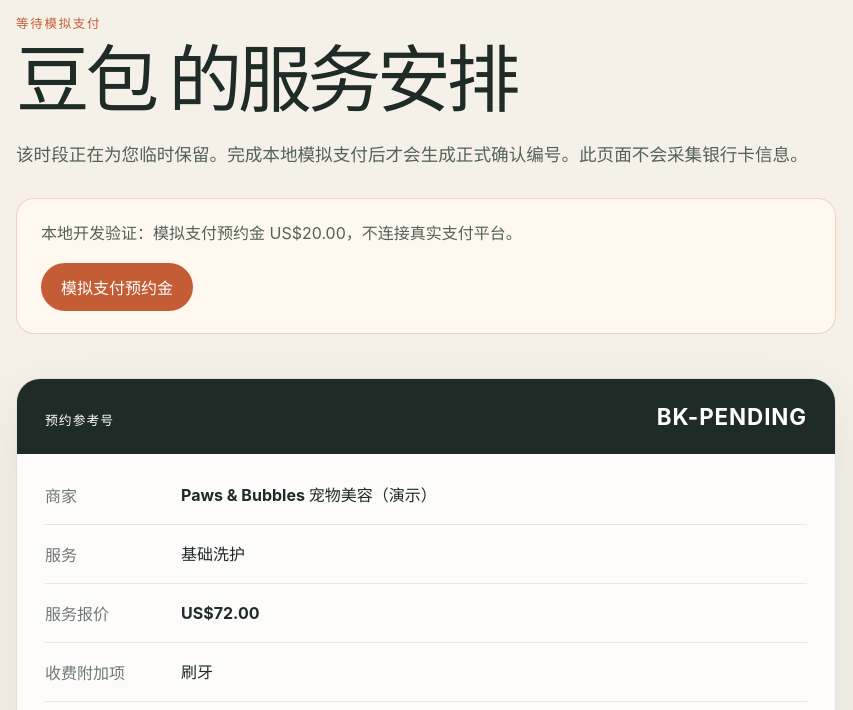
App › shows a payment hold and only claims confirmation after simulated payment succeeds
The width and height of the screenshot is (853, 710).
Check: the text "等待模拟支付" is shown, box [16,16,101,31]
Check: the text "预约已确认" is not shown
Click the button "模拟支付预约金". click: (117, 287)
box: [41,263,193,311]
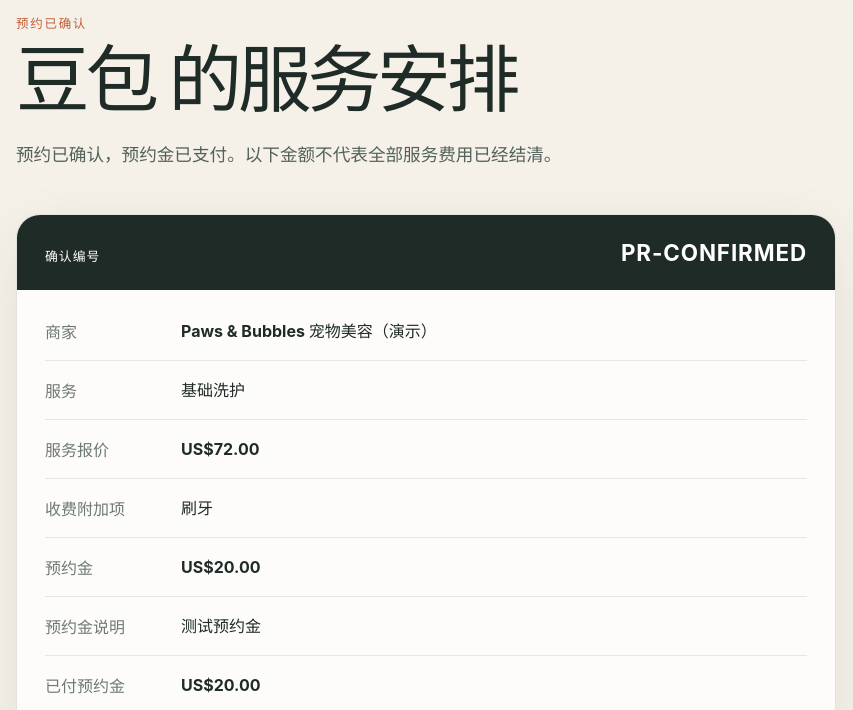
Check: the text "预约已确认" is shown, box [16,16,87,31]
Check: the text "PR-CONFIRMED" is shown, box [621,239,807,266]
